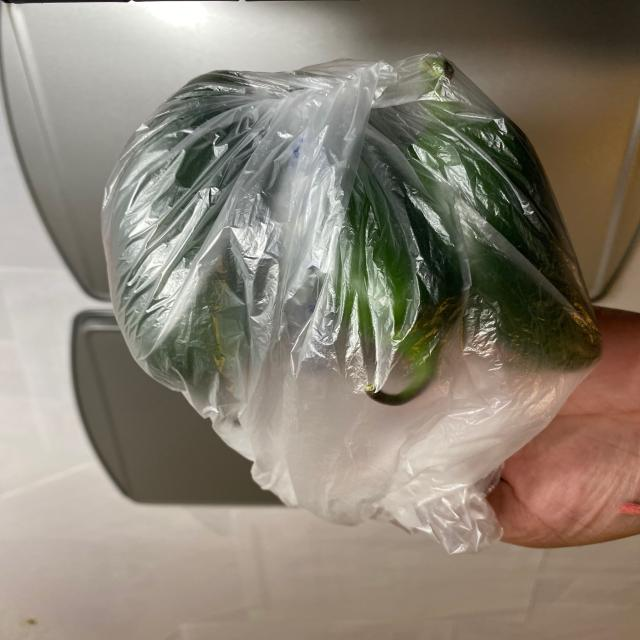chilli: (102, 56, 614, 426)
